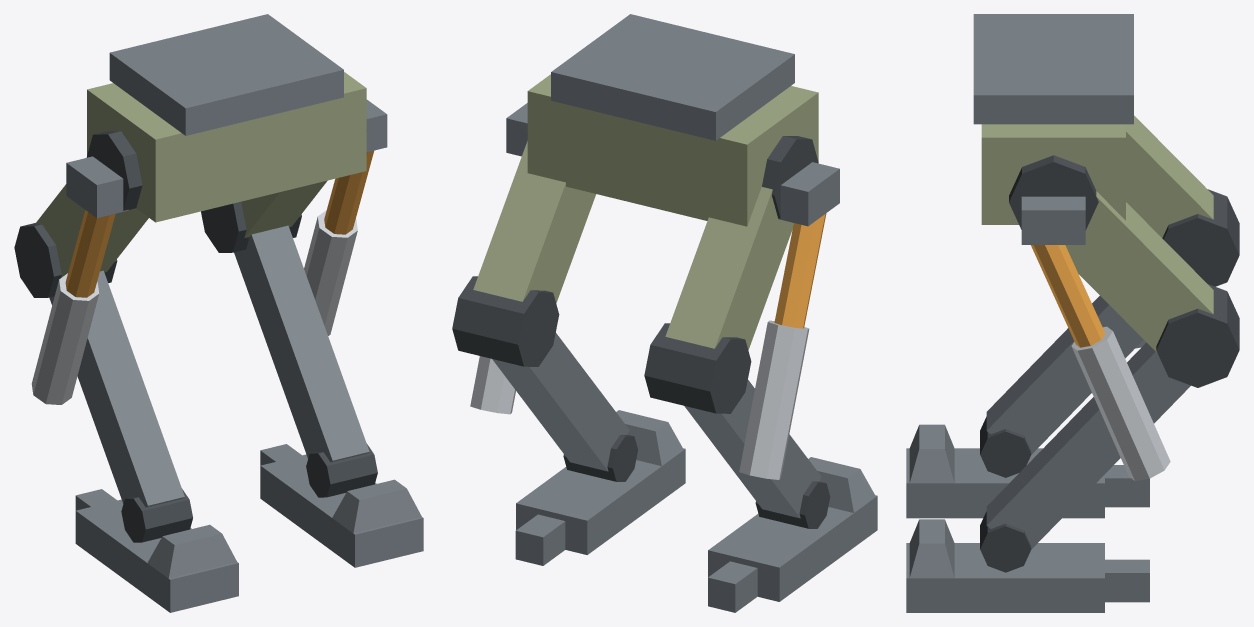
Rendered from mech-hangar-and-battle-frames-hopper-legs-7e5012e5__26822.glb.
3 renders of one model, left to right at view 1: azimuth 30°, elevation 25°; view 2: azimuth 150°, elevation 25°; view 3: azimuth 270°, elevation 25°, orthographic. The views are drawn at different scales.
Visible parts, largest first — view 1: hopper-legs; view 2: hopper-legs; view 3: hopper-legs.
Part boxes in pixels (box(x1,y1,x2,y2)): hopper-legs: box(14, 14, 423, 612); hopper-legs: box(452, 14, 877, 612); hopper-legs: box(906, 14, 1239, 612).
Size of the model in its own units: 1.12 by 1.7 by 1.04.
